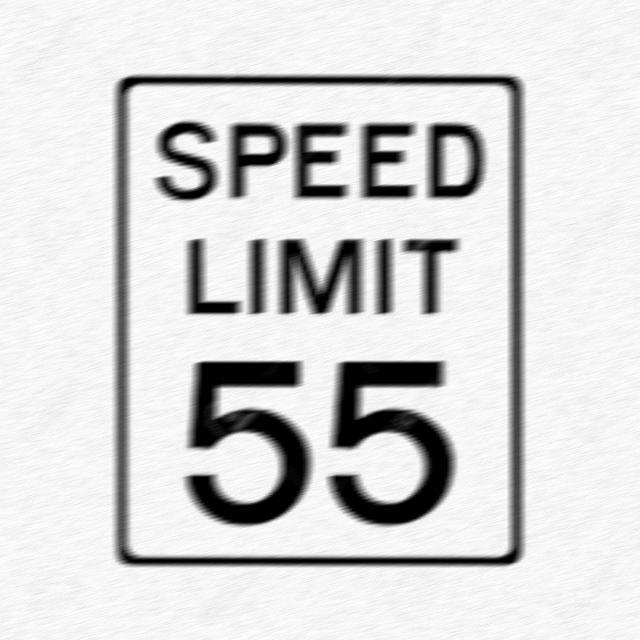speedLimit55: (107, 67, 530, 568)
